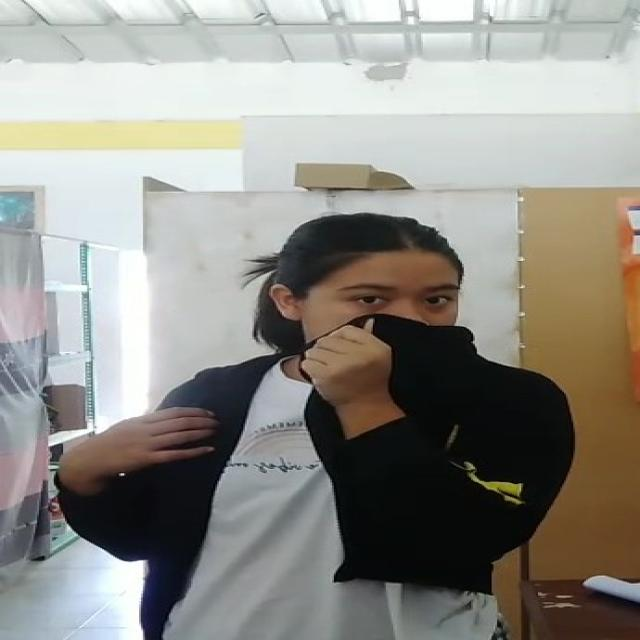8_ropa_rostro: (301, 312, 482, 440)
